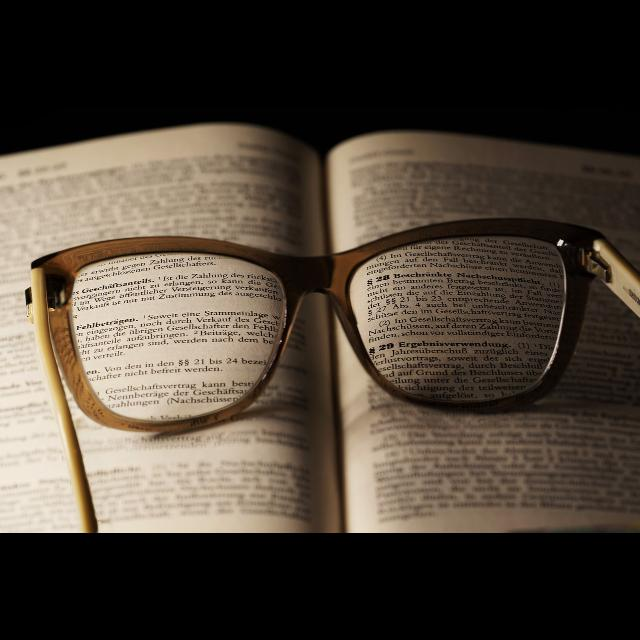glasses: (26, 215, 640, 435)
